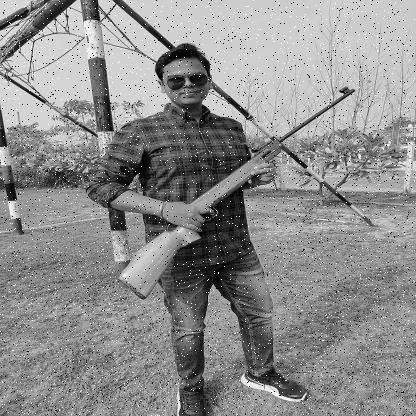rifle: (115, 84, 357, 302)
